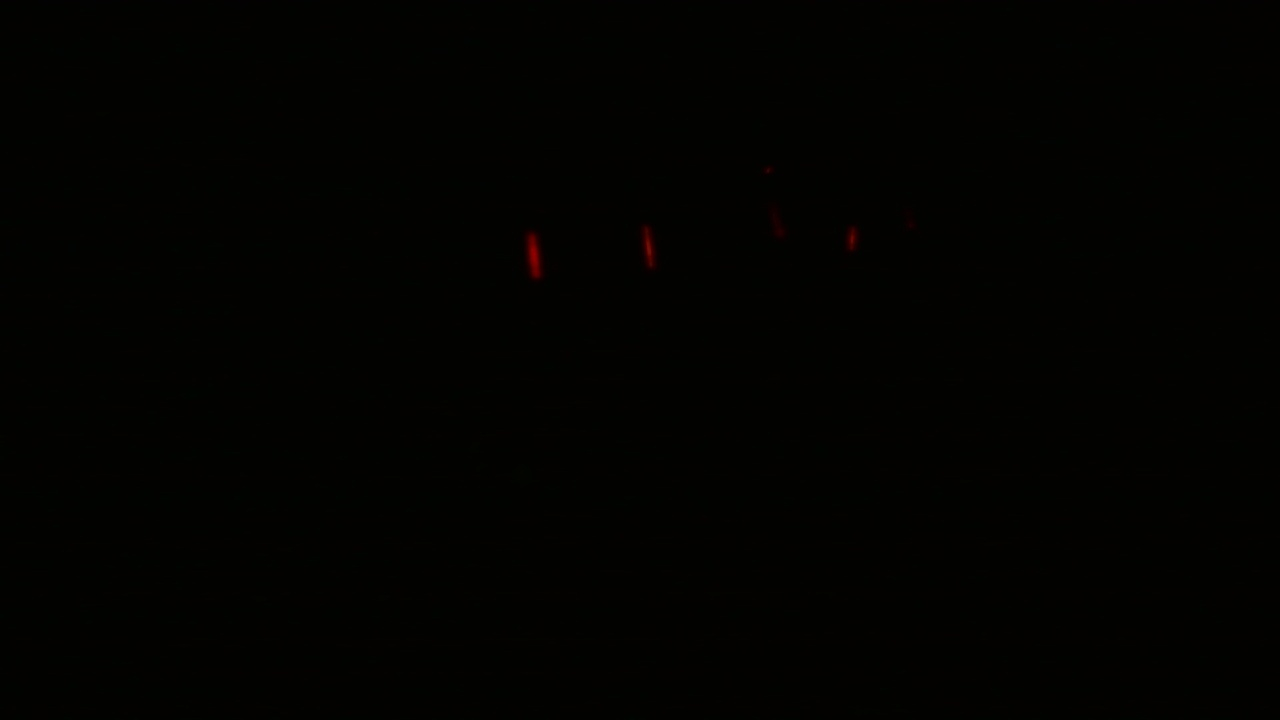pair1: (518, 221, 667, 290)
